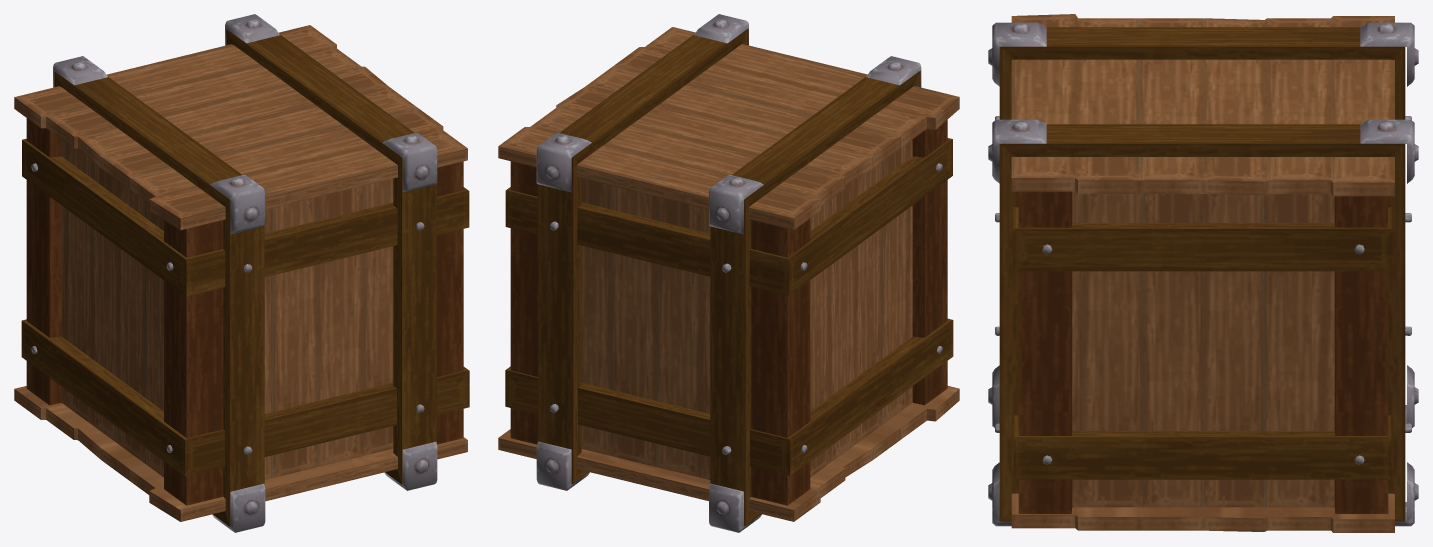
The model's file is Crate_Wooden.glb.
The picture shows the model from 3 angles, left to right: view 1: azimuth 30°, elevation 25°; view 2: azimuth 150°, elevation 25°; view 3: azimuth 270°, elevation 25°; orthographic projection. The views are drawn at different scales.
Parts seen in each view (by area): view 1: Crate_Wooden; view 2: Crate_Wooden; view 3: Crate_Wooden.
Boxes of the visible parts, <box> form: Crate_Wooden: <box>14,14,469,532</box>; Crate_Wooden: <box>498,14,959,532</box>; Crate_Wooden: <box>988,14,1418,532</box>.
Size of the model in its own units: 0.8423 by 0.9309 by 0.9083.
2 materials, 2 textured.
